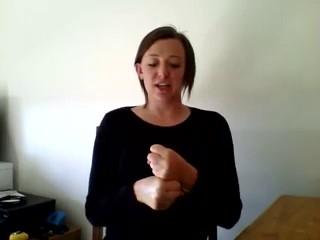G: (143, 144, 185, 215)
